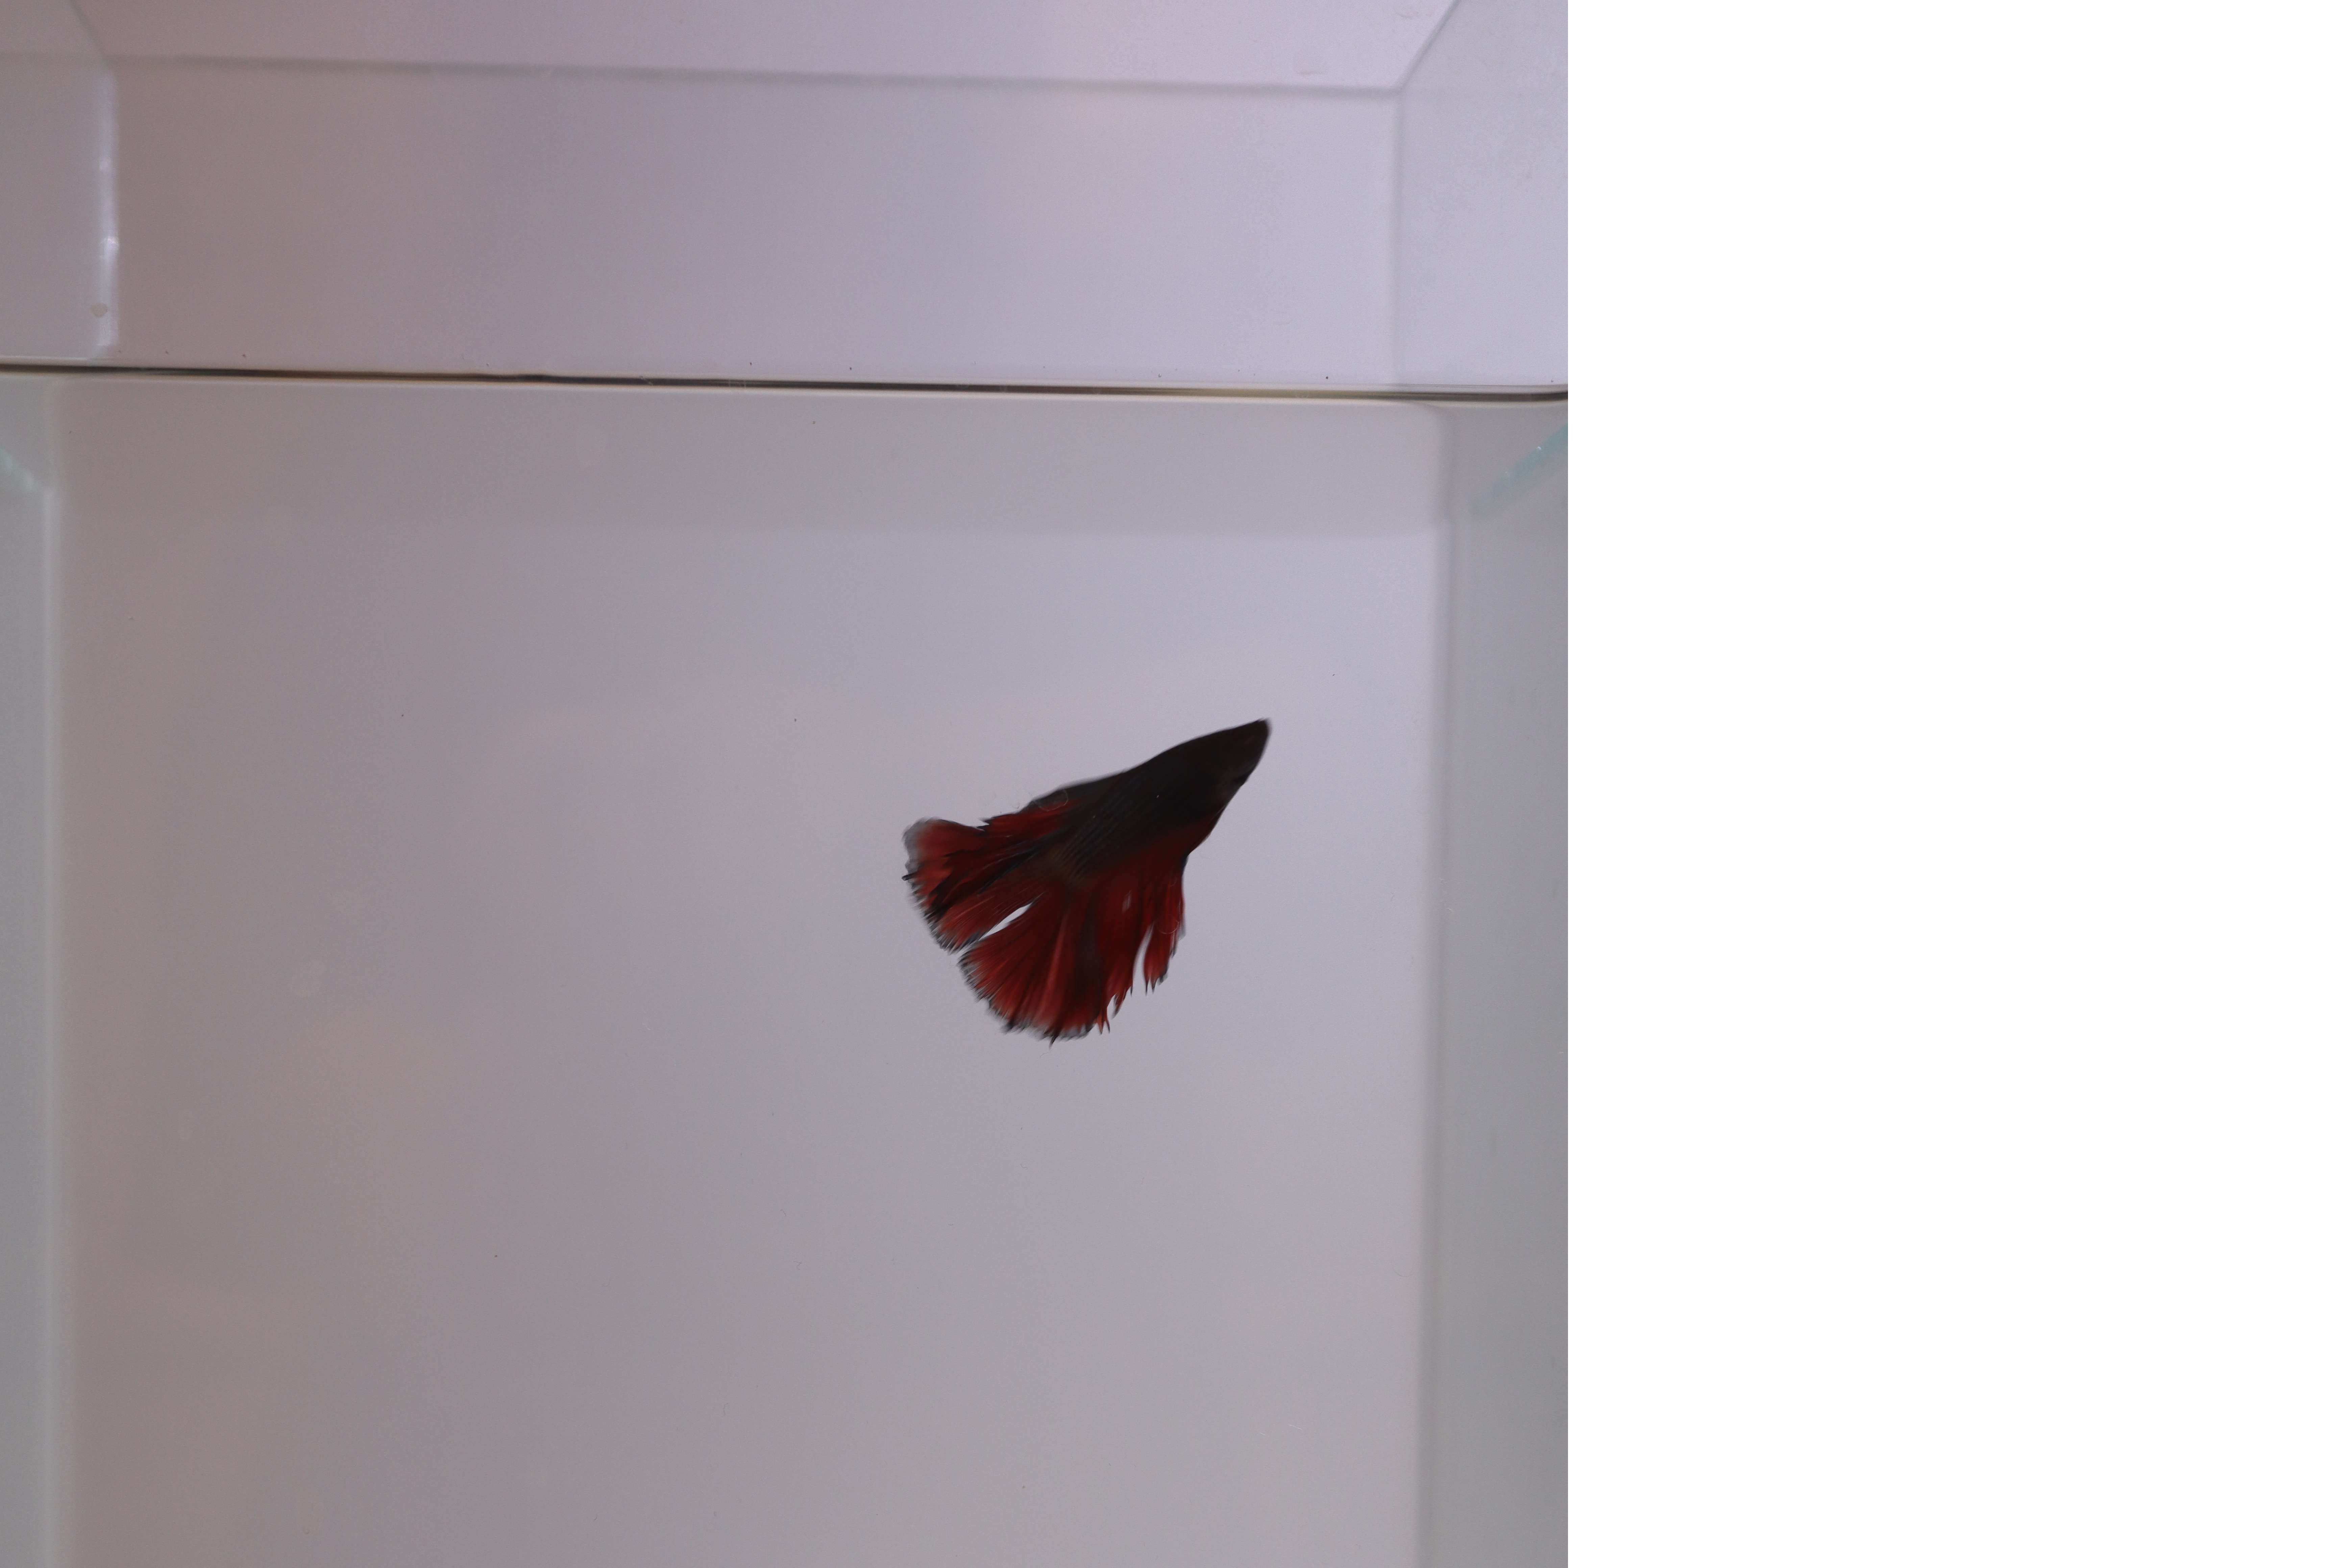fish: (884, 714, 1290, 1046)
